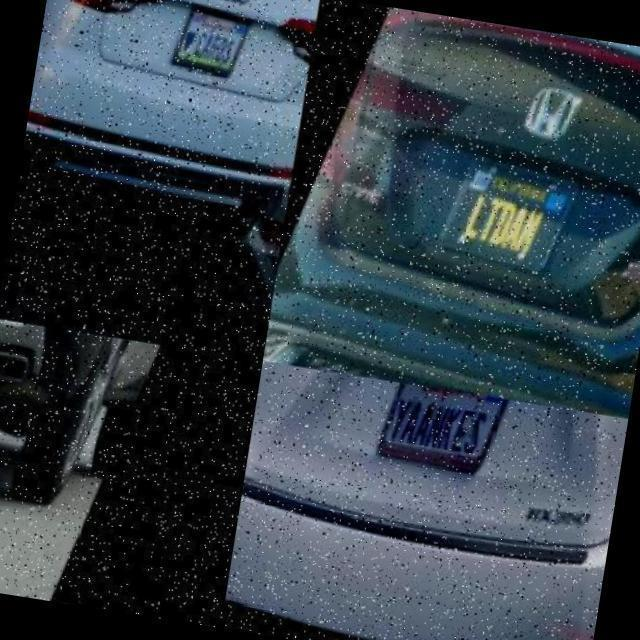license_plate: (437, 154, 587, 290), (370, 381, 520, 494), (172, 5, 256, 91), (0, 317, 24, 358)
